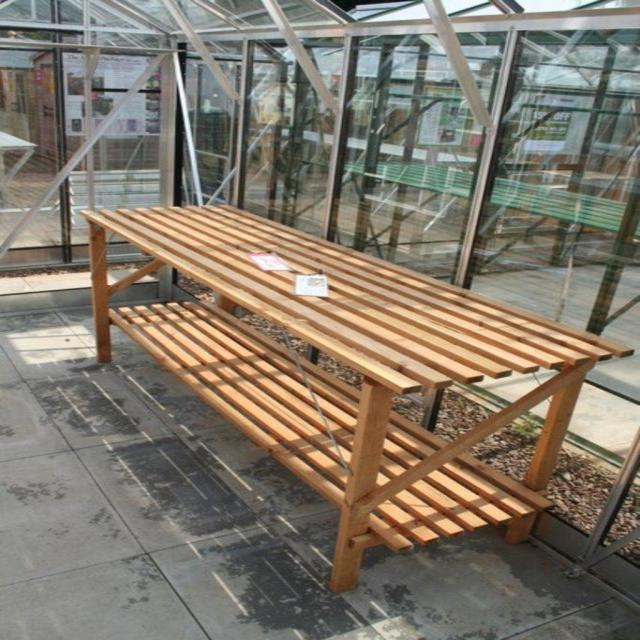table: (75, 201, 635, 593)
